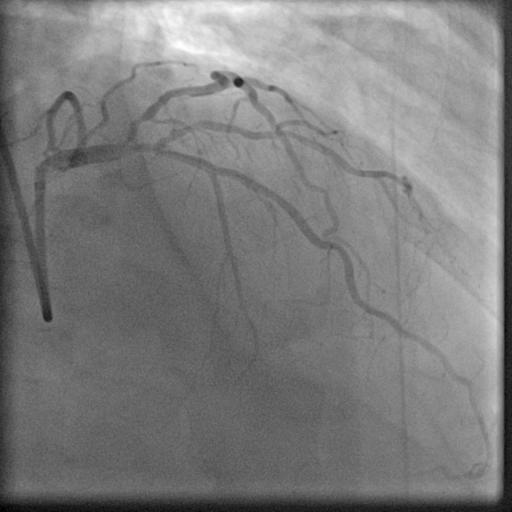Stenosis: (129, 106, 148, 130)
